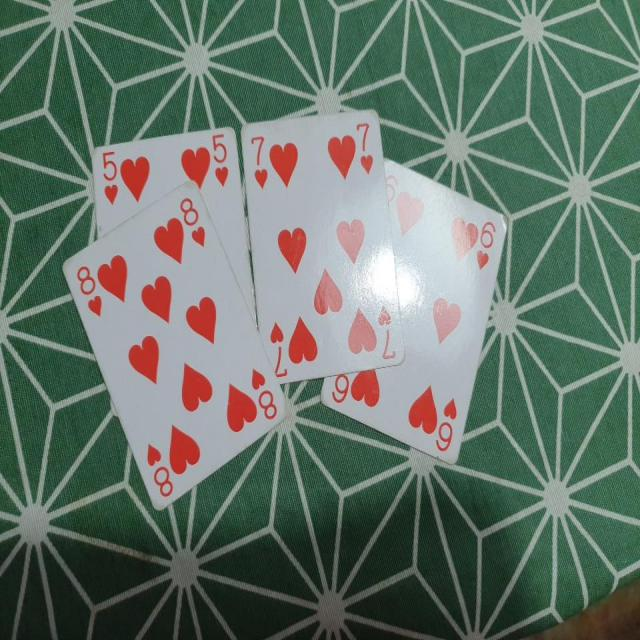5 Hearts: (86, 118, 260, 329)
6 Hearts: (318, 160, 508, 482)
7 Hearts: (246, 97, 404, 388)
8 Hearts: (57, 178, 288, 514)
